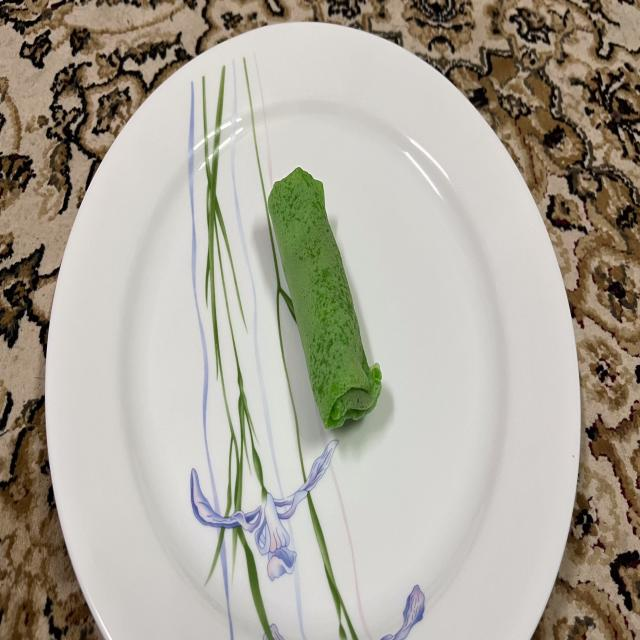Kuih-Ketayap: (268, 167, 381, 429)
